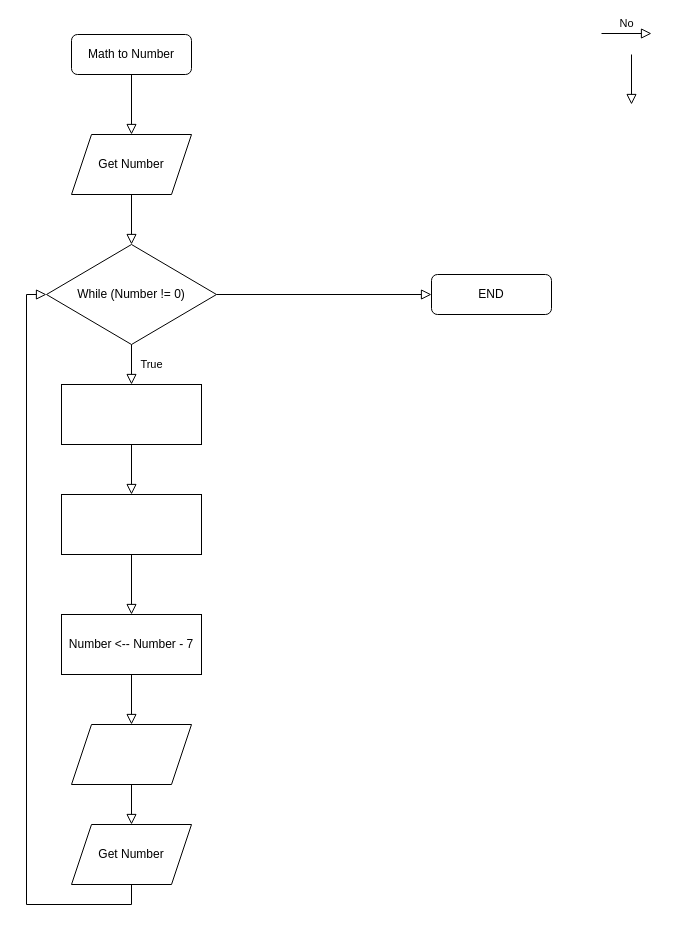
Some shapes in this 679 by 932 pixel diagram are drawn without their labels. Each missing label, with the box of its shape:
Number <-- Number * 2: (60, 494, 202, 554)
Number <-- Number + 5: (60, 384, 202, 444)
Print Number: (70, 724, 192, 784)
